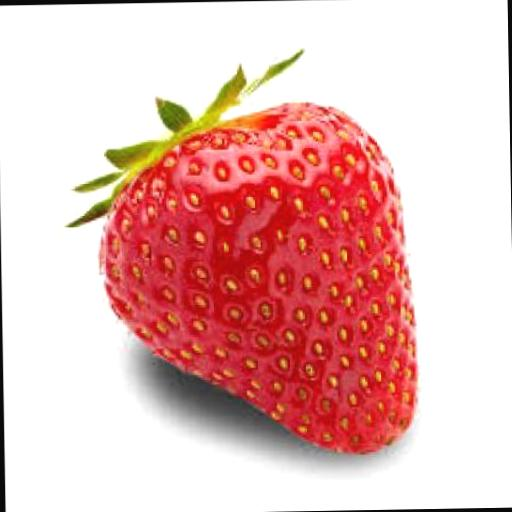biodegradable: (60, 41, 420, 458)
